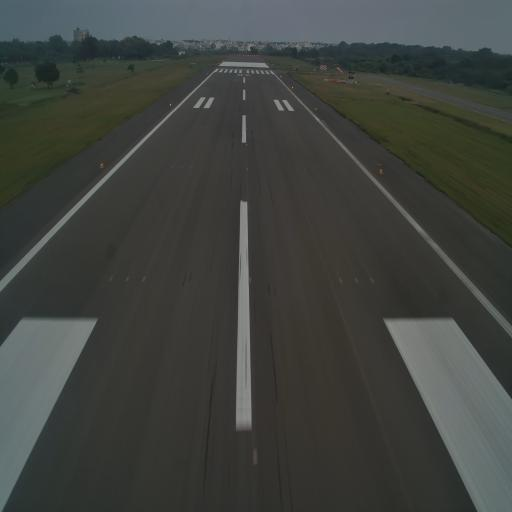off: (368, 276, 376, 288), (353, 273, 359, 288), (108, 272, 114, 284), (140, 274, 147, 284), (124, 271, 130, 282), (337, 276, 343, 286), (303, 168, 307, 174), (311, 168, 315, 173), (247, 205, 250, 211), (171, 164, 174, 170), (180, 166, 183, 172), (295, 166, 298, 172), (188, 166, 192, 170)
on: (247, 274, 253, 287), (98, 161, 104, 169), (245, 166, 250, 174), (379, 166, 384, 174), (244, 142, 249, 149)
